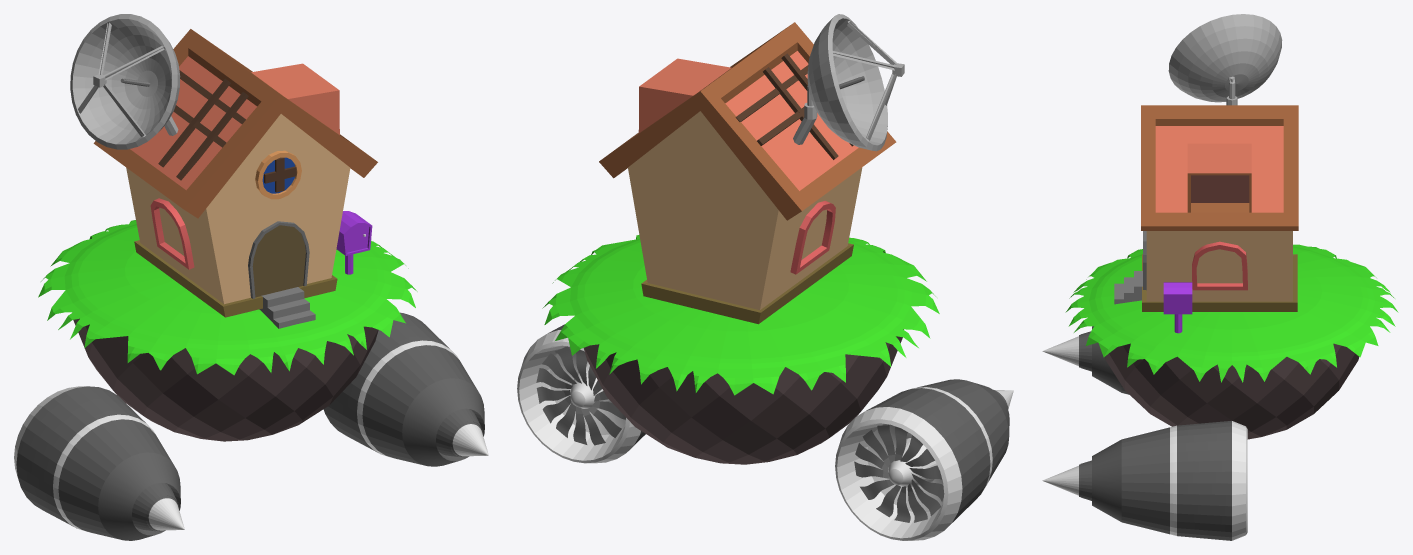
The model's file is Houseship.fbx.
3 renders of one model, left to right at view 1: azimuth 30°, elevation 25°; view 2: azimuth 150°, elevation 25°; view 3: azimuth 270°, elevation 25°, orthographic. The views are drawn at different scales.
Visible parts, largest first — view 1: House main, Ground, Engine; view 2: House main, Ground, Engine; view 3: House main, Ground, Engine.
Part boxes in pixels (box(x1,y1,x2,y2)): House main: box(70, 14, 377, 328); Ground: box(38, 220, 417, 441); Engine: box(14, 312, 488, 540); House main: box(599, 14, 904, 324); Ground: box(542, 235, 939, 464); Engine: box(517, 324, 1013, 540); House main: box(1114, 14, 1298, 333); Ground: box(1065, 244, 1398, 439); Engine: box(1042, 326, 1247, 540).
Bounding box in the file's own units: 474 × 514 × 396.
